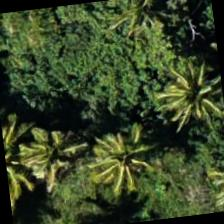Kelapa_Sawit: (0, 104, 100, 204), (64, 110, 164, 210), (137, 45, 223, 146), (101, 0, 198, 57)
